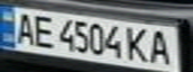0: (87, 20, 106, 56)
4: (103, 22, 127, 60), (54, 17, 75, 52)
5: (69, 19, 90, 54)
A: (145, 27, 178, 66), (9, 9, 39, 46)
E: (30, 12, 57, 48)
K: (124, 25, 151, 63)
